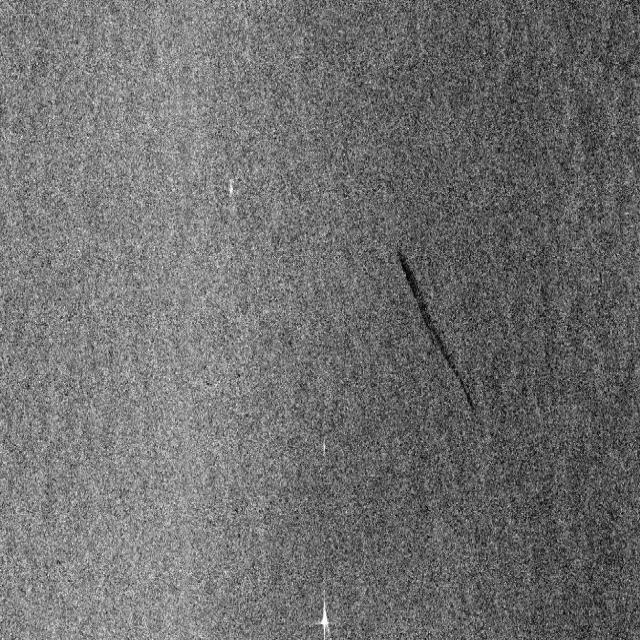oil-spill: (386, 234, 483, 423)
ship: (305, 591, 335, 640)
